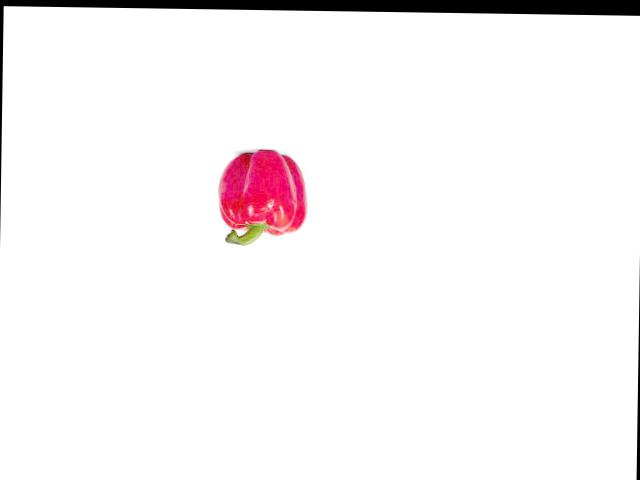bell_pepper: (215, 149, 313, 248)
